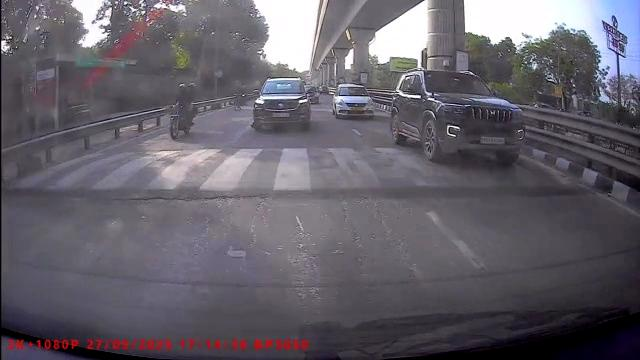motorcycle_with_helmet: (167, 80, 197, 142)
